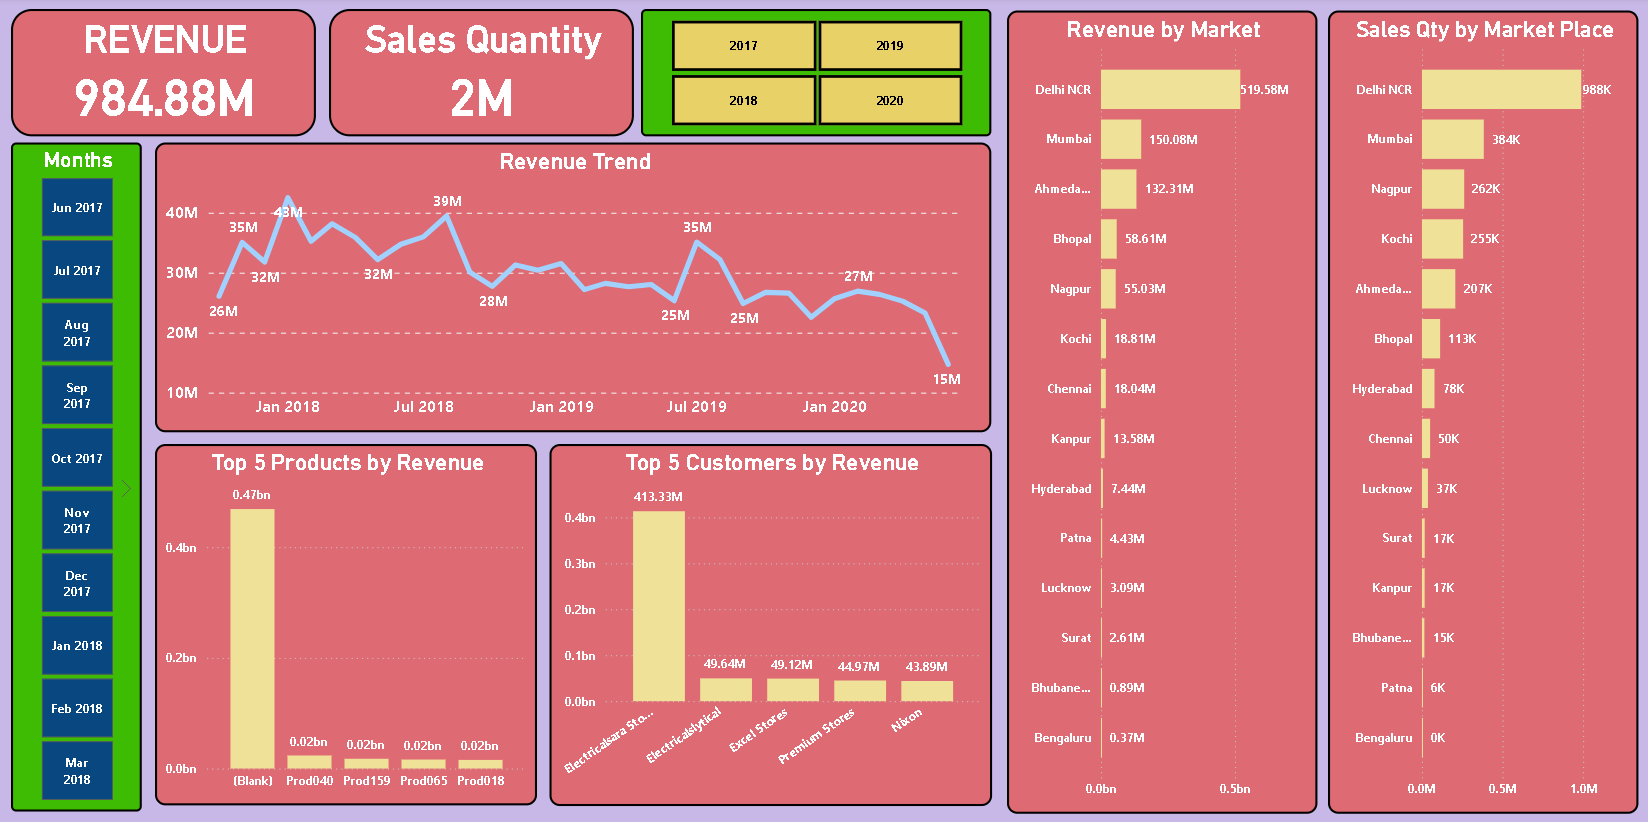

Layout of this report page (visuals, bound fields, positions):
{"tool":"powerbi","page":{"name":"Sales Report","canvas":[1600,800],"ordinal":0},"visuals":[{"type":"card","title":"REVENUE","fields":{"Values":["Basic Masures.Revenue"]},"box":[11.4,11.4,295.5,123.4],"z":0},{"type":"card","title":"Sales Quantity","fields":{"Values":["Basic Masures.Sales Quantity"]},"box":[319.9,11.4,295.5,123.4],"z":1000},{"type":"columnChart","title":"Top 5 Customers by Revenue","fields":{"Category":["sales customers.custmer_name"],"Y":["Sum(sales transactions.Normalize_s_amount)"]},"box":[532.6,433.6,428.7,350.8],"z":2000},{"type":"slicer","title":"YEAR","fields":{"Values":["sales date.year"]},"box":[621.9,11.4,339.4,123.4],"z":3000},{"type":"slicer","title":"Months","fields":{"Values":["sales date.cy_date MY"]},"box":[11.4,141.3,126.7,647.9],"z":4000},{"type":"columnChart","title":"Top 5 Products by Revenue","fields":{"Category":["sales products.product_code"],"Y":["Basic Masures.Revenue"]},"box":[151,433.6,370.2,350],"z":5000},{"type":"lineChart","title":"Revenue Trend","fields":{"Y":["Basic Masures.Revenue"],"Category":["sales date.cy_date MY.Variation.Date Hierarchy.Year","sales date.cy_date MY.Variation.Date Hierarchy.Quarter","sales date.cy_date MY.Variation.Date Hierarchy.Month","sales date.cy_date MY.Variation.Date Hierarchy.Day"]},"box":[151,141.3,810.3,280.9],"z":6000},{"type":"barChart","title":"Revenue by Market","fields":{"Y":["Sum(sales transactions.Normalize_s_amount)"],"Category":["sales markets.markets_name"]},"box":[975.9,13,300.4,777.8],"z":7000},{"type":"barChart","title":"Sales Qty by Market Place","fields":{"Y":["Sum(sales transactions.sales_qty)"],"Category":["sales markets.markets_name"]},"box":[1287.7,13,300.4,777.8],"z":8000}]}

Visuals, with their boxes in screenshot pixels (x1, y1, x2, y2), scaled from the page's 1600x800 canvas onto the 1648x822 screenshot:
"REVENUE" card: crop(12, 12, 316, 139)
"Sales Quantity" card: crop(329, 12, 634, 139)
"Top 5 Customers by Revenue" columnChart: crop(549, 446, 990, 806)
"YEAR" slicer: crop(641, 12, 990, 139)
"Months" slicer: crop(12, 145, 142, 811)
"Top 5 Products by Revenue" columnChart: crop(156, 446, 537, 805)
"Revenue Trend" lineChart: crop(156, 145, 990, 434)
"Revenue by Market" barChart: crop(1005, 13, 1315, 813)
"Sales Qty by Market Place" barChart: crop(1326, 13, 1636, 813)
